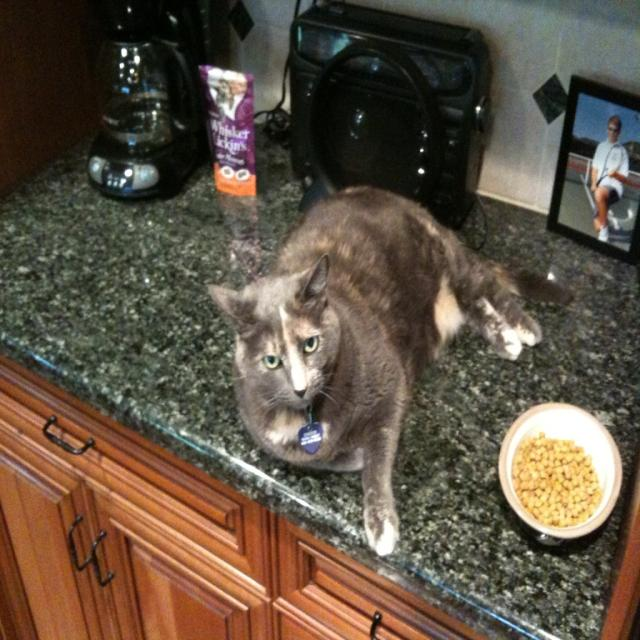Cat: (205, 180, 574, 562)
